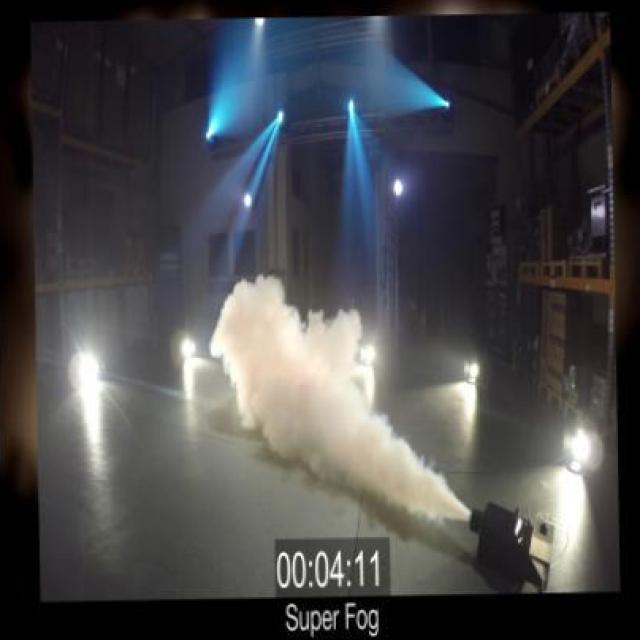fire: (204, 240, 447, 527)
